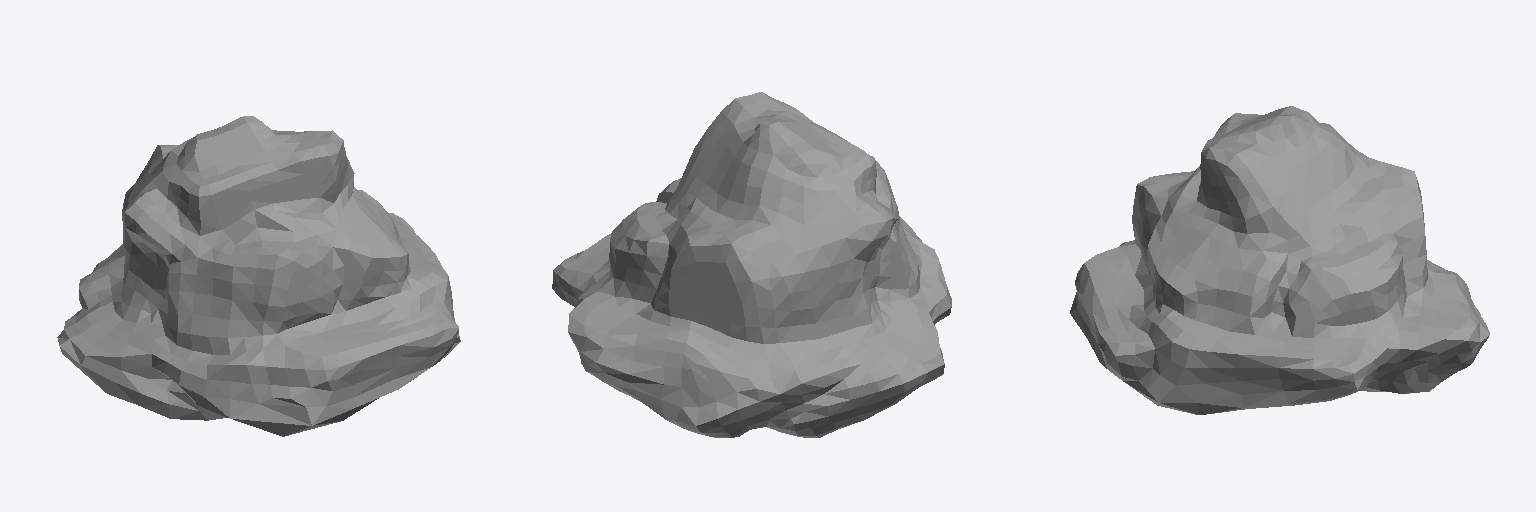
File: Rock_6.obj
3 views of the same model, side by side, from view 1: azimuth 30°, elevation 25°; view 2: azimuth 150°, elevation 25°; view 3: azimuth 270°, elevation 25° (orthographic).
Visible parts, largest first — view 1: Rock_6; view 2: Rock_6; view 3: Rock_6.
Part boxes in pixels (bbox=[...]): Rock_6: bbox=[57, 116, 460, 436]; Rock_6: bbox=[552, 92, 951, 437]; Rock_6: bbox=[1070, 106, 1489, 414].
Bounding box in the file's own units: 2.6 × 1.9 × 2.65.